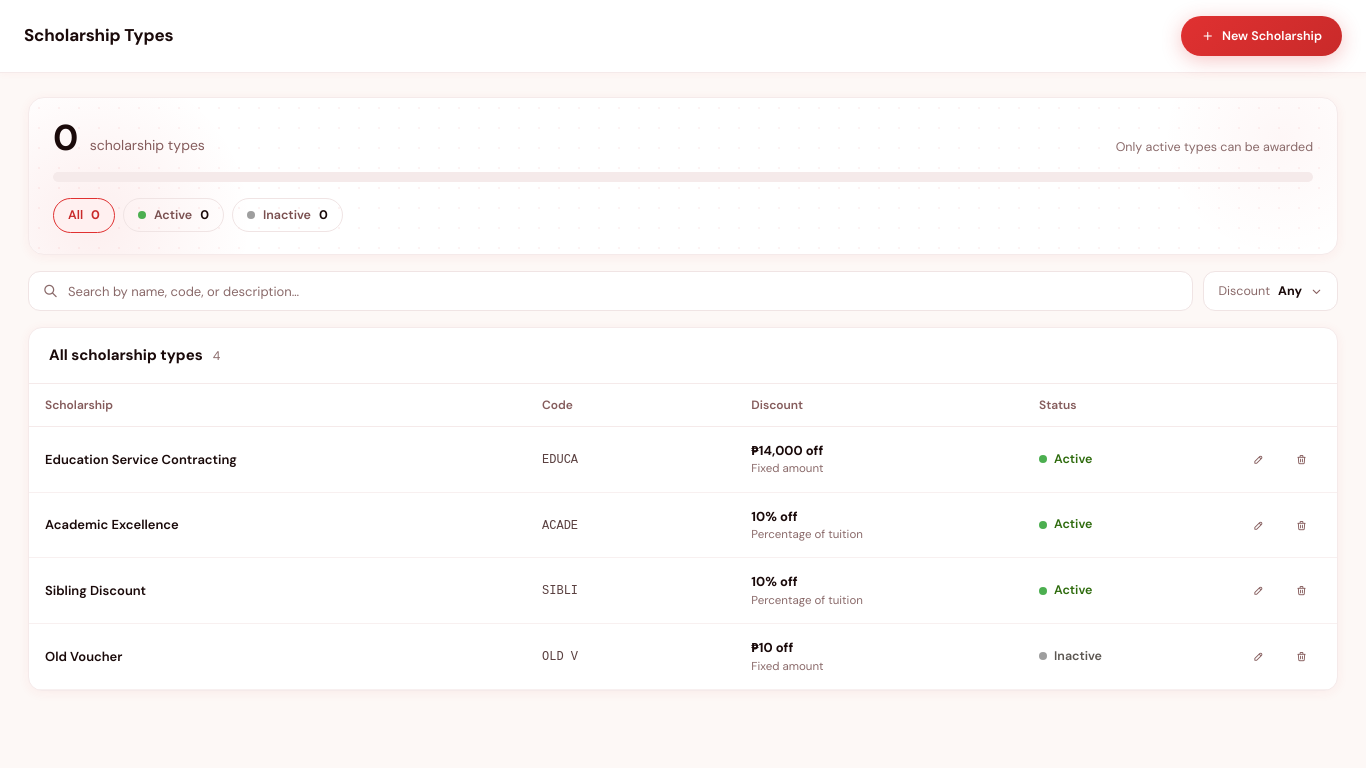
Test case: Scholarship types — band and filters › opens a type to edit from its row
The width and height of the screenshot is (1366, 768).
Click the button "Sibling Discount": (96, 591) 29,558 -> 1337,624
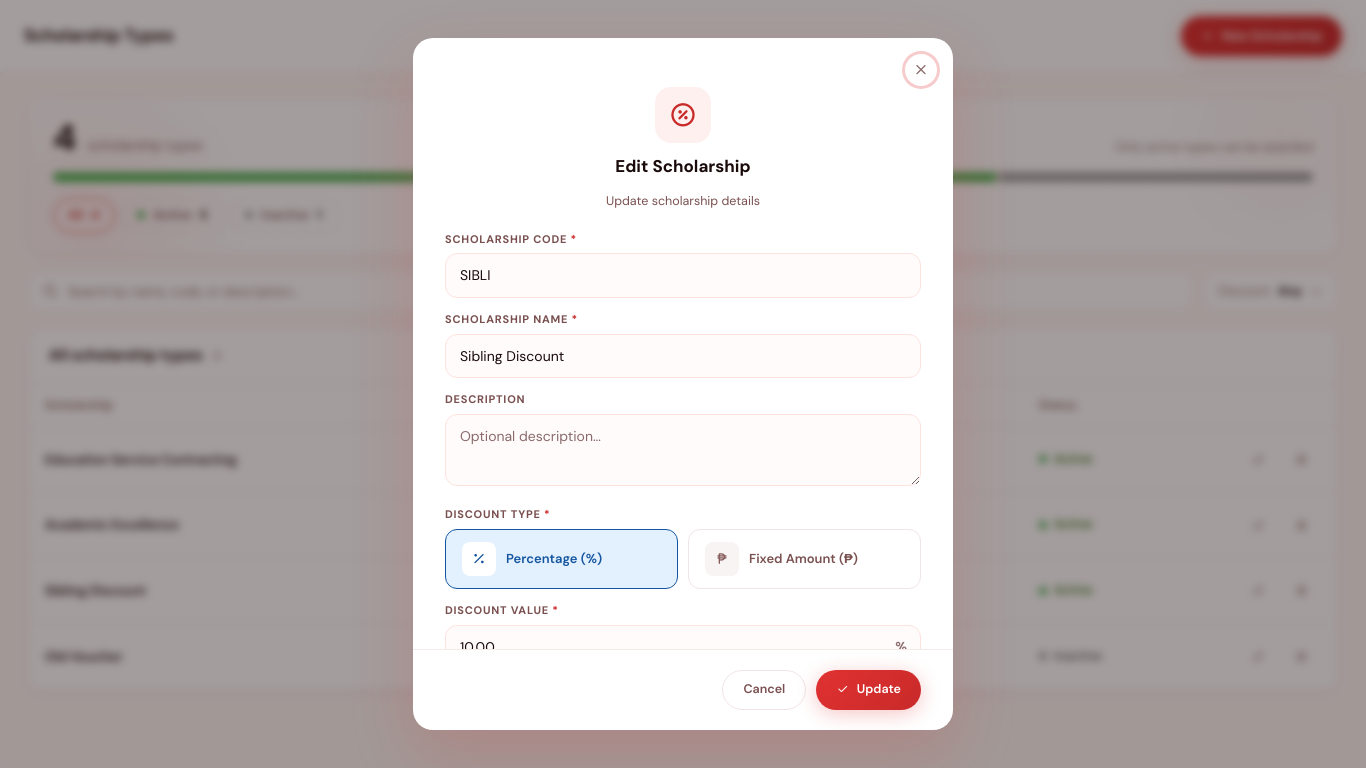
Expected: the heading "Edit Scholarship" is shown, 615,155 -> 751,179
